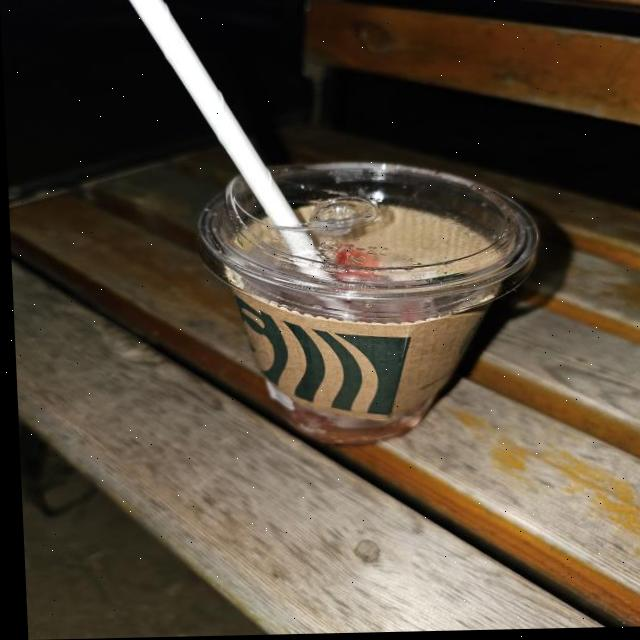cup: (183, 140, 544, 455)
